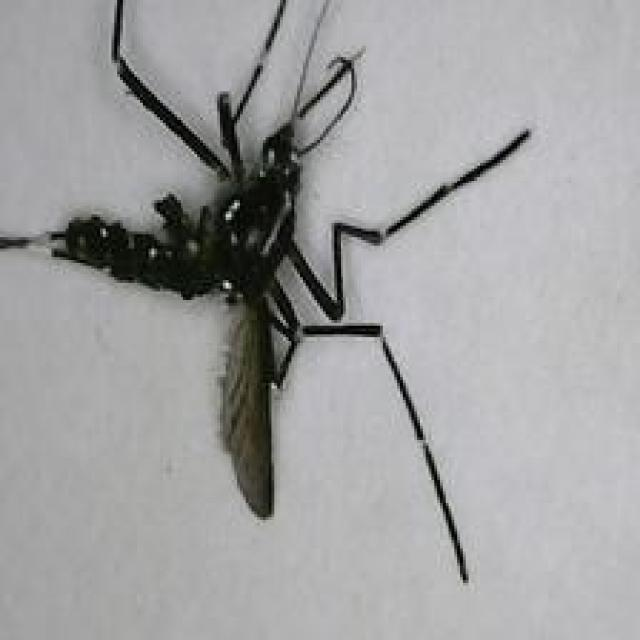Aedes albopictus: (0, 0, 531, 583)
